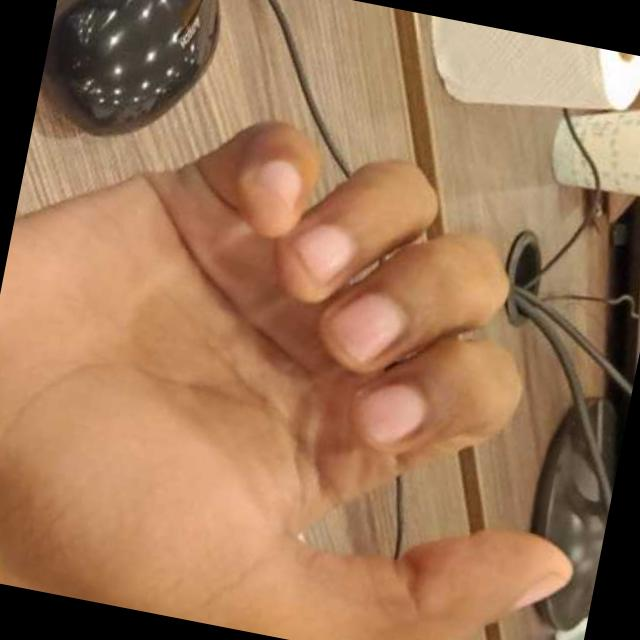Nail: (329, 292, 404, 363), (355, 384, 425, 445), (294, 226, 353, 280), (253, 160, 301, 212), (514, 571, 569, 609)
